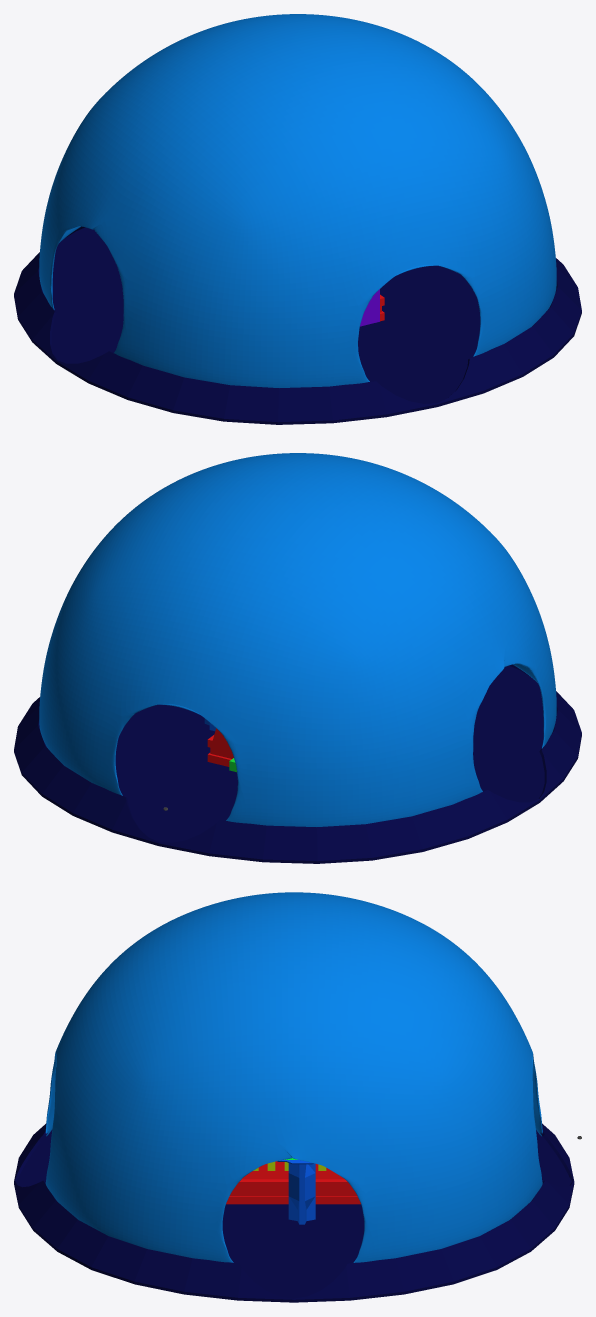
The model's file is DOME_HAND.fbx.
3 renders of one model, top to bottom at view 1: azimuth 30°, elevation 25°; view 2: azimuth 150°, elevation 25°; view 3: azimuth 270°, elevation 25°, orthographic.
Visible parts, largest first — view 1: Cube.001; view 2: Cube.001, generator.001; view 3: Cube.001, generator.001, console.
Boxes of the visible parts, <box> form: Cube.001: <box>14,14,581,424</box>; Cube.001: <box>14,453,581,863</box>; generator.001: <box>207,728,233,766</box>; Cube.001: <box>14,892,574,1302</box>; generator.001: <box>226,1161,360,1204</box>; console: <box>277,1158,315,1224</box>.
Size of the model in its own units: 1409 by 733 by 1428.
